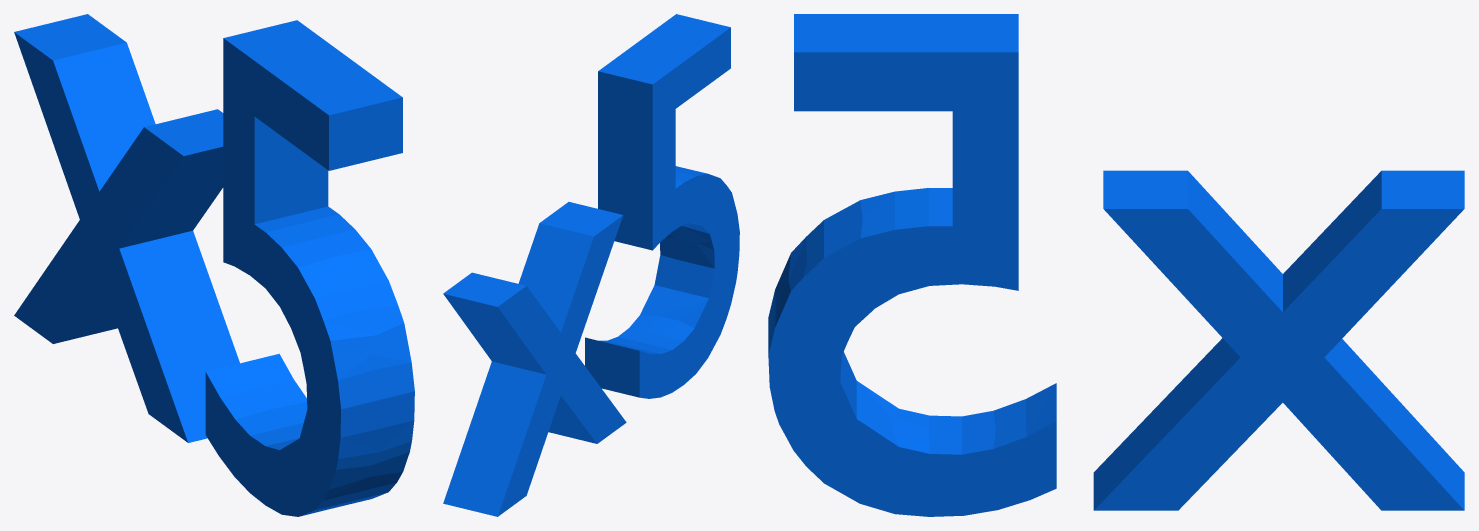
3 views of the same model, side by side, from view 1: azimuth 30°, elevation 25°; view 2: azimuth 150°, elevation 25°; view 3: azimuth 270°, elevation 25° (orthographic). The views are drawn at different scales.
Parts seen in each view (by area): view 1: Text.003; view 2: Text.003; view 3: Text.003.
Part boxes in pixels (box(x1,y1,x2,y2)): Text.003: box(14, 14, 414, 516); Text.003: box(443, 14, 739, 516); Text.003: box(768, 14, 1464, 516).
Bounding box in the file's own units: 12.22 × 69.12 × 93.86.
